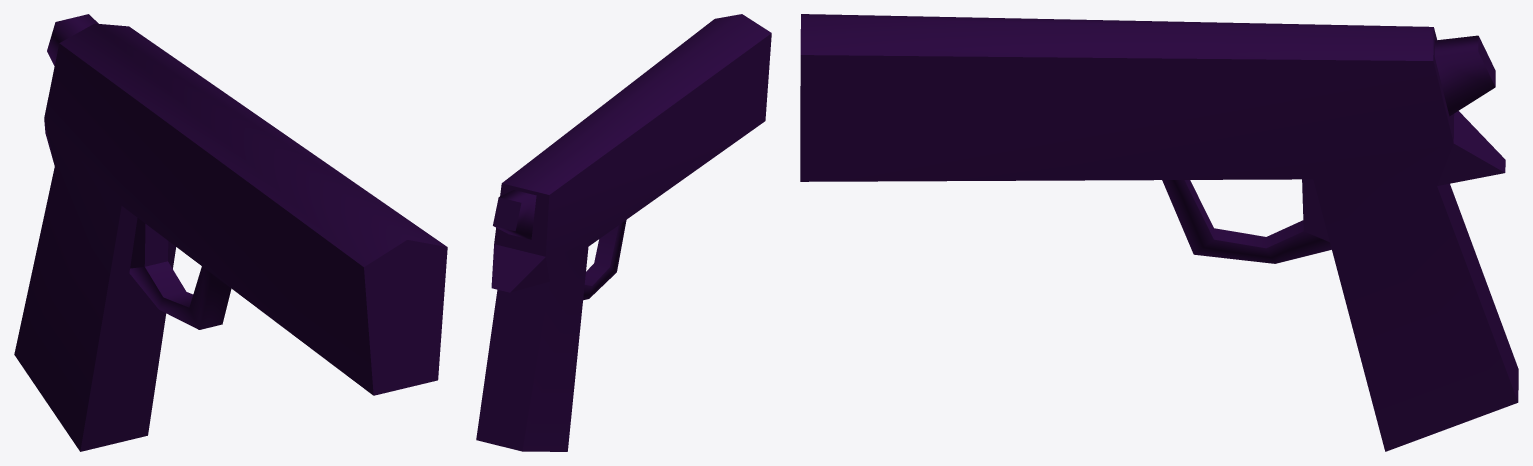
Rendered from Gun.fbx.
3 renders of one model, left to right at view 1: azimuth 30°, elevation 25°; view 2: azimuth 150°, elevation 25°; view 3: azimuth 270°, elevation 25°, orthographic. The views are drawn at different scales.
Visible parts, largest first — view 1: Gun; view 2: Gun; view 3: Gun.
Boxes of the visible parts, box(x1,y1,x2,y2) form: Gun: box(14, 14, 447, 451); Gun: box(476, 14, 771, 451); Gun: box(800, 14, 1518, 451).
Size of the model in its own units: 3.72 by 17.69 by 27.51.
